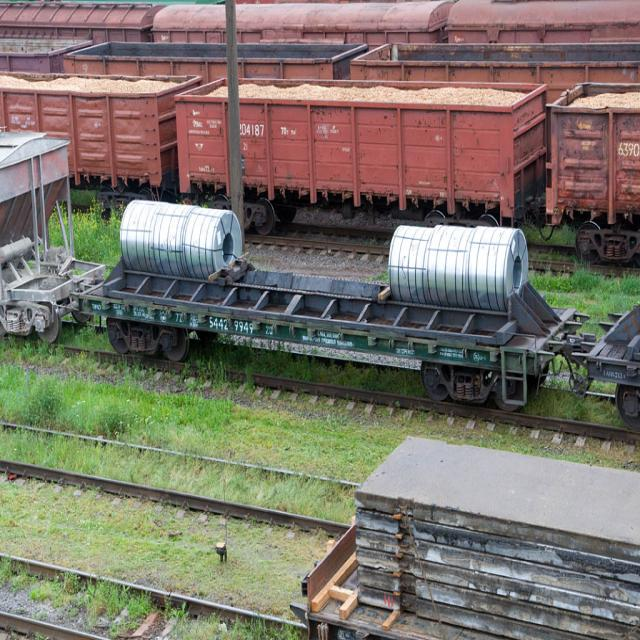boxcar: (153, 0, 450, 45), (0, 0, 155, 47), (445, 0, 640, 36)
cargo: (348, 428, 640, 640), (386, 220, 531, 318), (117, 196, 245, 286)
flatcar: (80, 288, 543, 418)
gondola: (172, 70, 548, 240), (0, 64, 204, 195), (540, 75, 640, 272), (345, 33, 640, 87), (60, 33, 366, 85), (0, 32, 92, 78)
